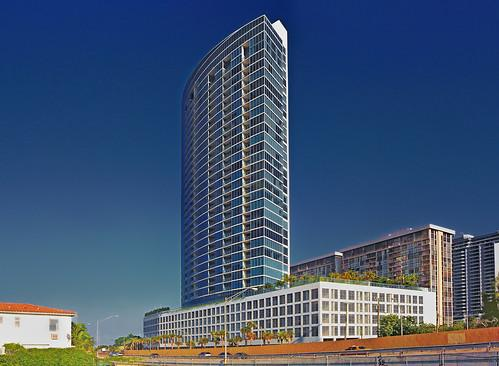building: (174, 9, 294, 302)
